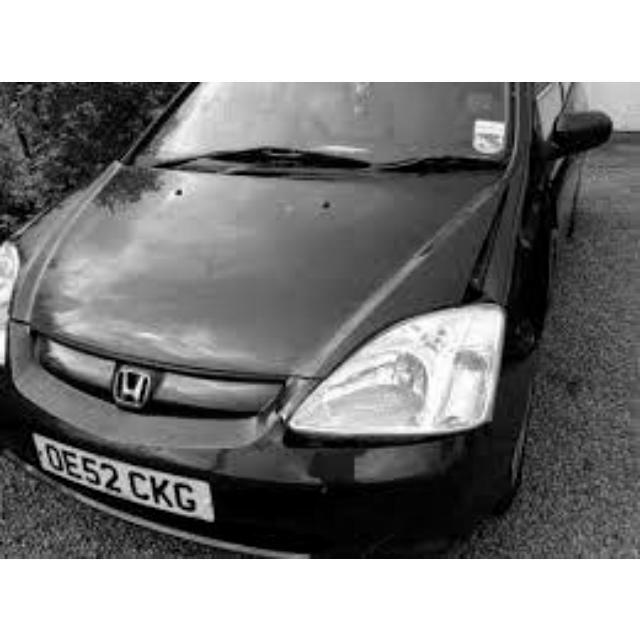front-bumper-dent: (217, 446, 423, 556)
